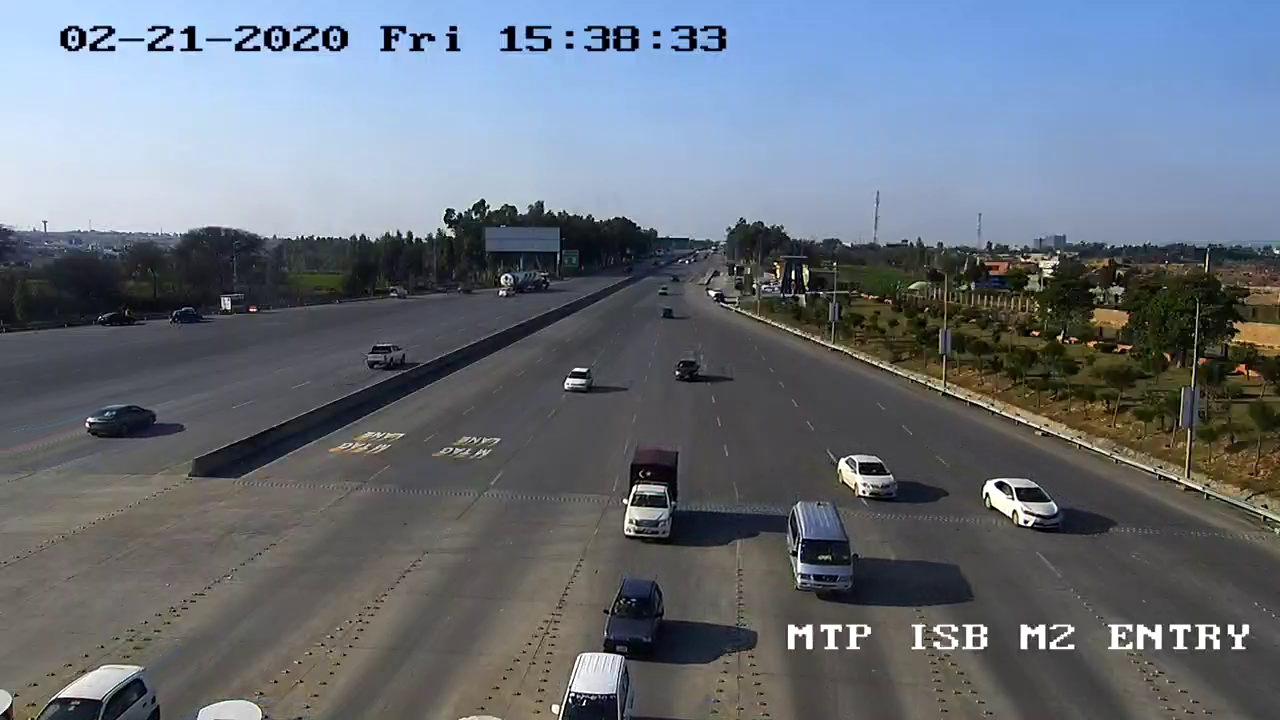f1: (594, 566, 672, 672), (966, 472, 1077, 544), (828, 440, 909, 504), (666, 343, 709, 394), (557, 354, 600, 398)
f2: (783, 496, 863, 609), (614, 438, 689, 548)
